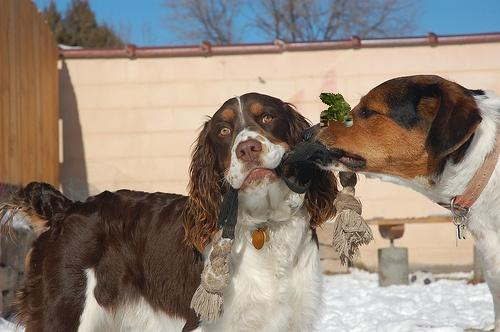tampered: (320, 94, 353, 129)
